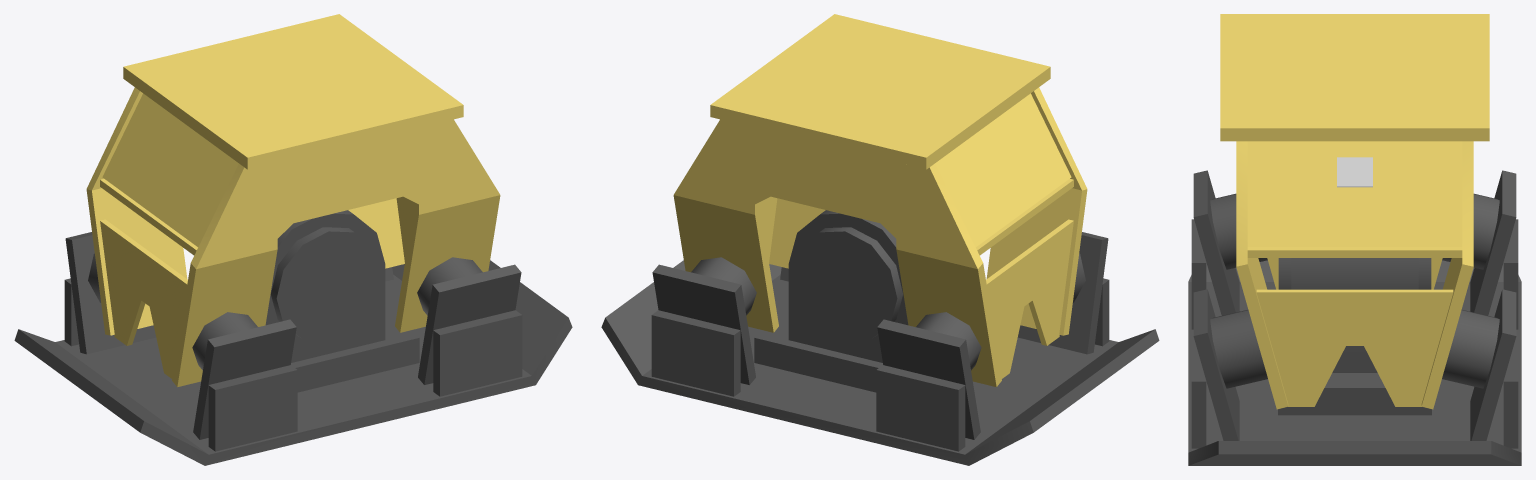
The picture shows the model from 3 angles, left to right: view 1: azimuth 30°, elevation 25°; view 2: azimuth 150°, elevation 25°; view 3: azimuth 270°, elevation 25°; orthographic projection. The views are drawn at different scales.
Parts seen in each view (by area): view 1: HC 450; view 2: HC 450; view 3: HC 450.
Boxes of the visible parts, x1=… form: HC 450: x1=14, y1=14, x2=572, y2=465; HC 450: x1=601, y1=14, x2=1159, y2=465; HC 450: x1=1188, y1=14, x2=1521, y2=465.
Size of the model in its own units: 146 by 91.63 by 90.14.
